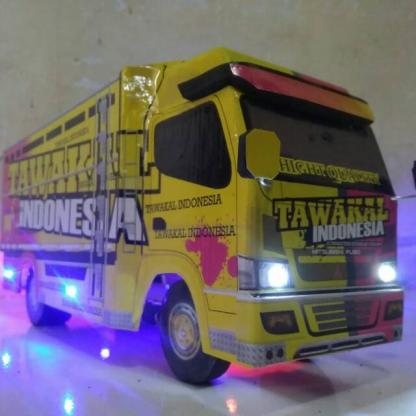truck: (1, 53, 405, 385)
